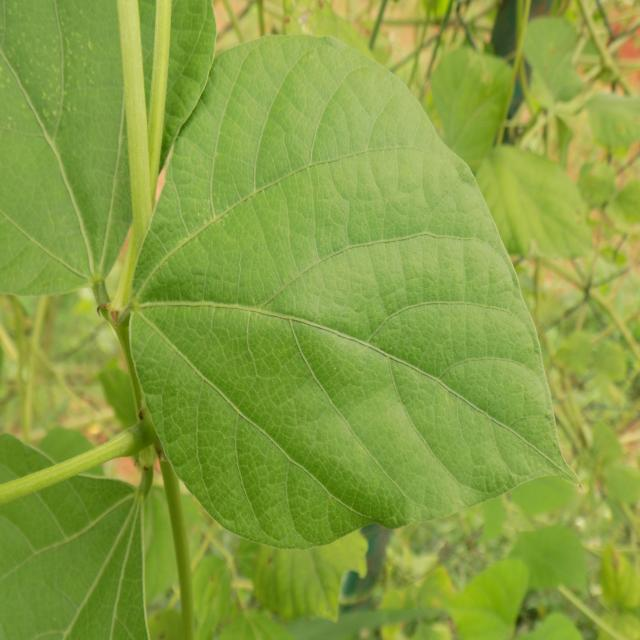Dolicos bean_healthy: (128, 29, 571, 544)
